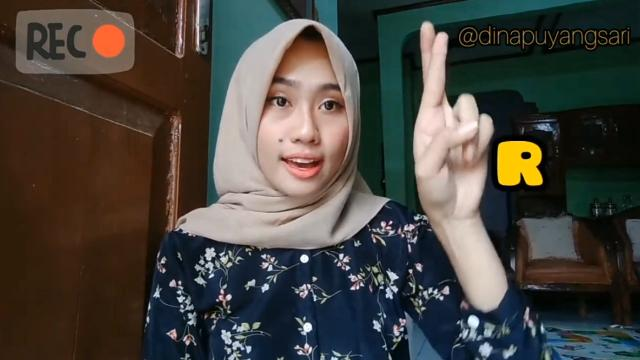R: (410, 18, 496, 220)
